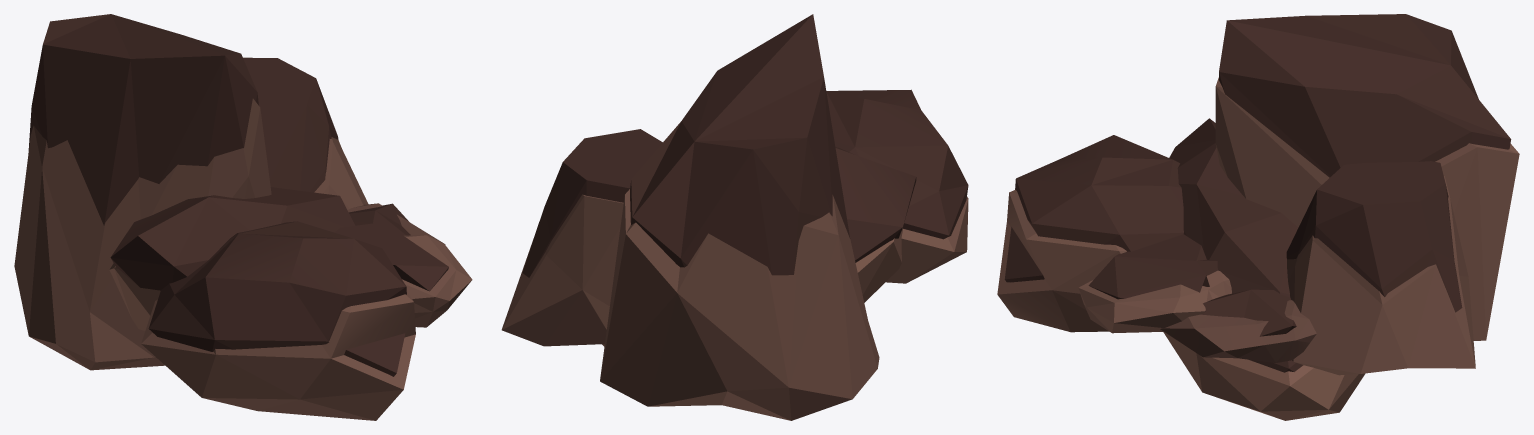
The model's file is Brown_rock_019.fbx.
3 views of the same model, side by side, from view 1: azimuth 30°, elevation 25°; view 2: azimuth 150°, elevation 25°; view 3: azimuth 270°, elevation 25° (orthographic). The views are drawn at different scales.
Visible parts, largest first — view 1: Brown_rock_019; view 2: Brown_rock_019; view 3: Brown_rock_019.
Part boxes in pixels (x1=…): Brown_rock_019: x1=14, y1=14, x2=472, y2=420; Brown_rock_019: x1=501, y1=14, x2=968, y2=420; Brown_rock_019: x1=997, y1=14, x2=1519, y2=420.
Size of the model in its own units: 437 by 616 by 426.
